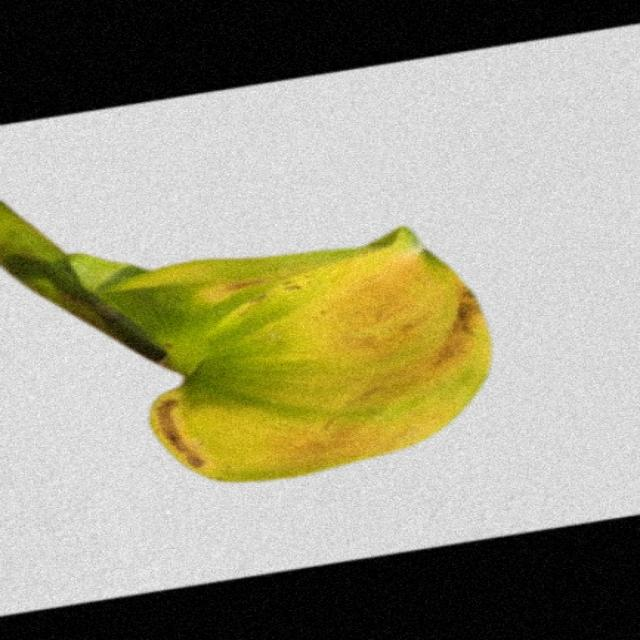daun berpenyakit kuning: (2, 205, 490, 481)
